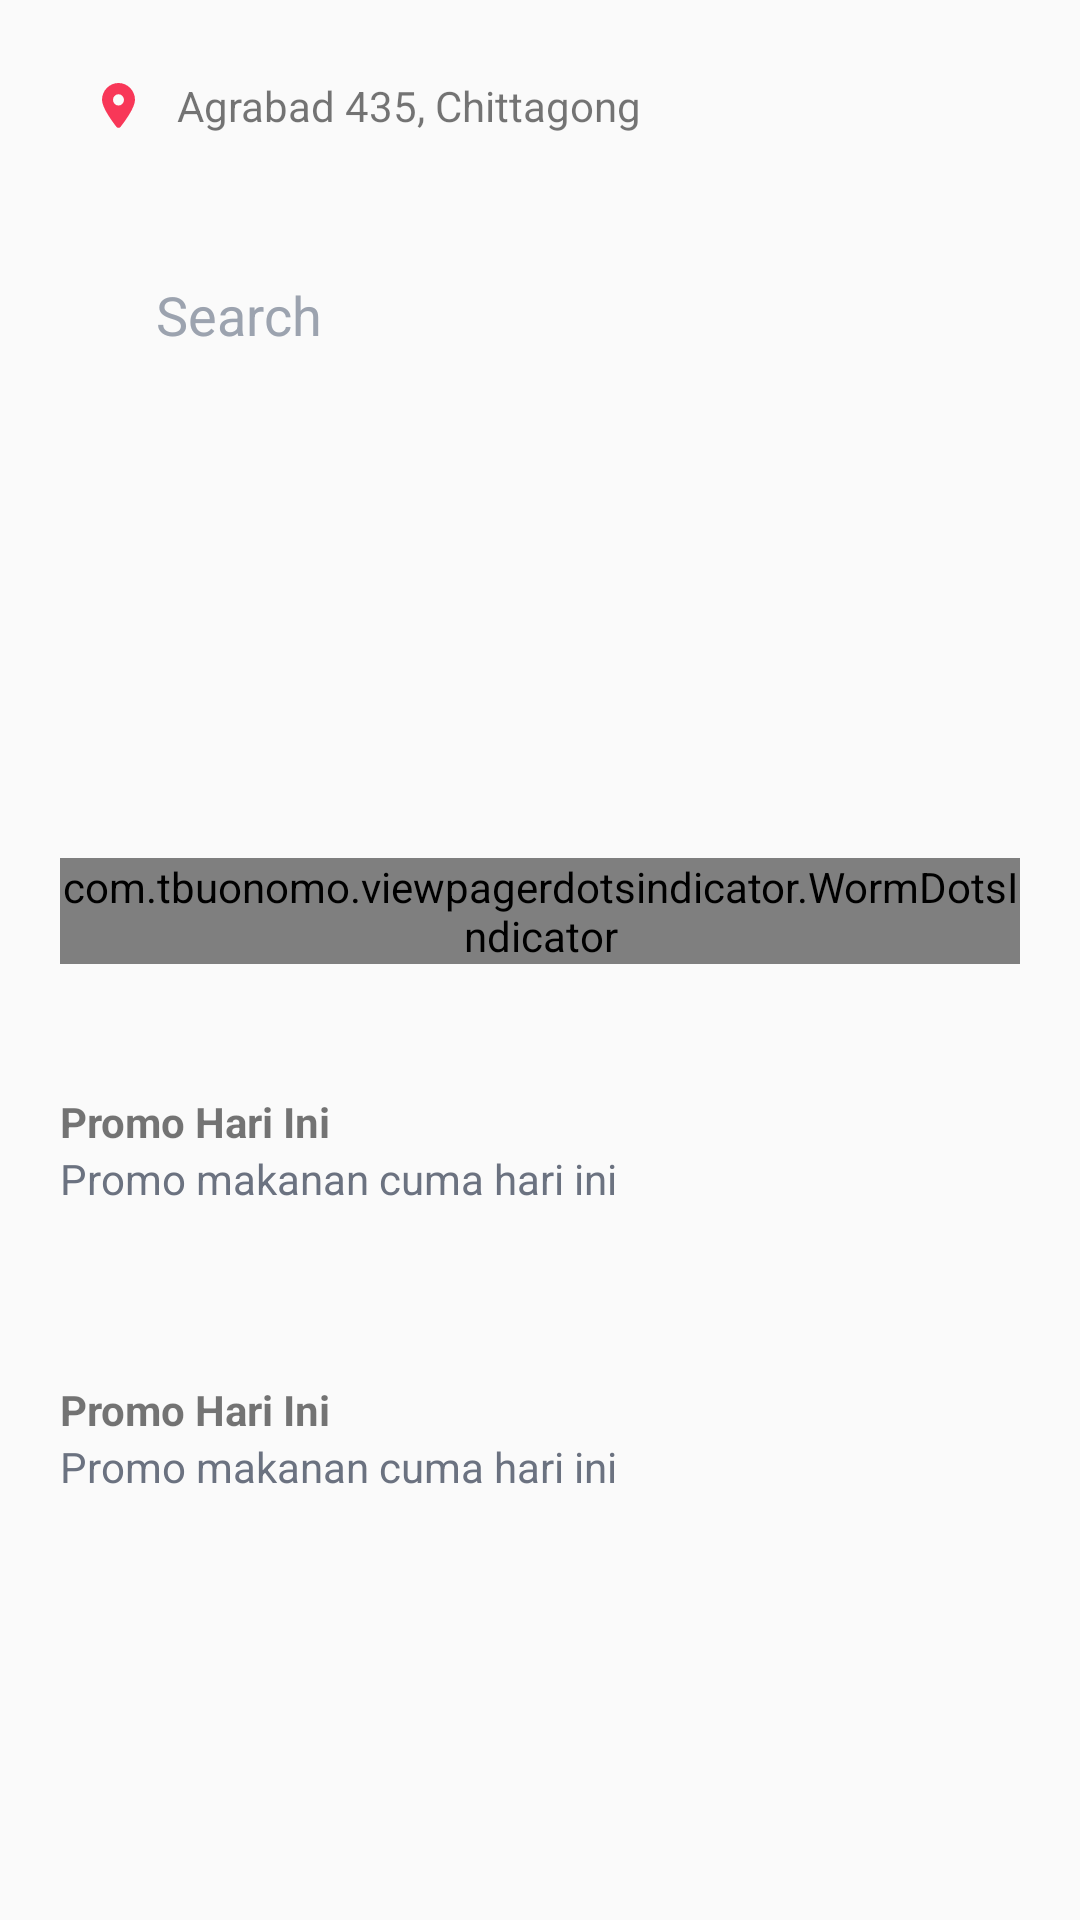

Where to tap for icons on this 1080w x 1920h app screen, as (x,y):
location: (118,105)
